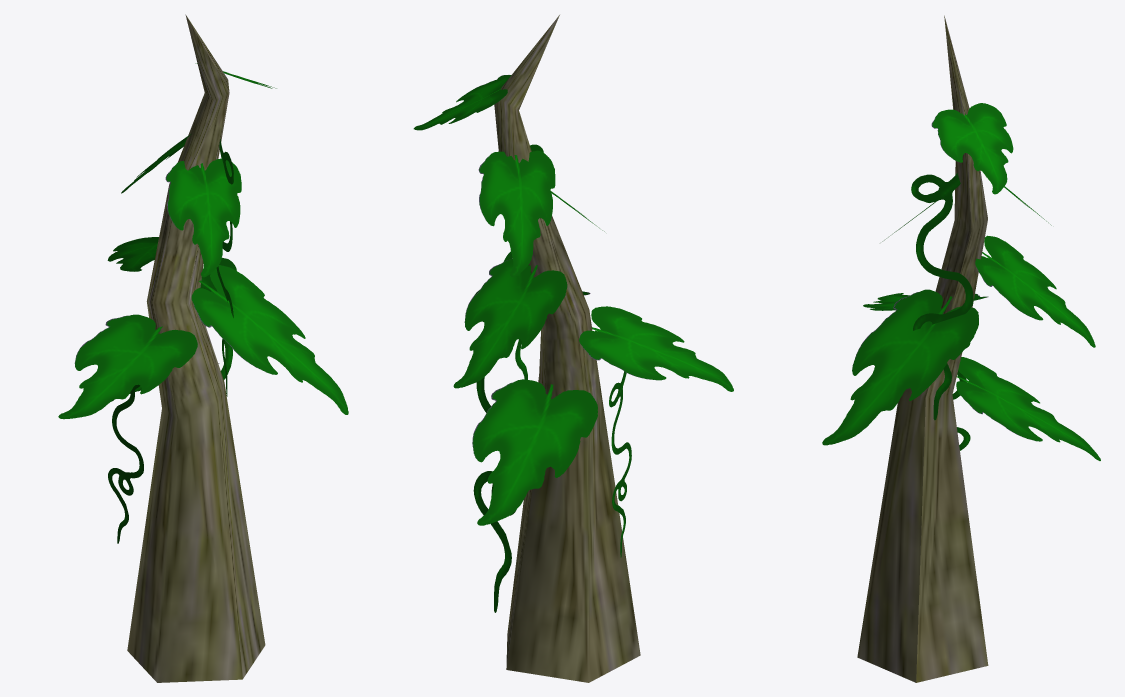
Rendered from grapevine.obj.
The picture shows the model from 3 angles, left to right: view 1: azimuth 30°, elevation 25°; view 2: azimuth 150°, elevation 25°; view 3: azimuth 270°, elevation 25°; orthographic projection.
Parts seen in each view (by area): view 1: Cylinder02, Duplicate01, Duplicate02, Duplicate04, Duplicate08, Duplicate03, Duplicate07, Box01; view 2: Cylinder02, Box01, Duplicate03, Duplicate06, Duplicate02, Duplicate05, Duplicate08; view 3: Cylinder02, Duplicate01, Box01, Duplicate03, Duplicate05, Duplicate07.
Boxes of the visible parts, bbox=[...] form: Cylinder02: bbox=[127, 14, 265, 682]; Duplicate01: bbox=[191, 265, 348, 414]; Duplicate02: bbox=[58, 314, 197, 419]; Duplicate04: bbox=[165, 158, 241, 277]; Duplicate08: bbox=[108, 384, 143, 543]; Duplicate03: bbox=[107, 237, 158, 271]; Duplicate07: bbox=[216, 139, 233, 396]; Box01: bbox=[111, 257, 236, 401]; Cylinder02: bbox=[494, 15, 640, 682]; Box01: bbox=[472, 290, 597, 612]; Duplicate03: bbox=[453, 258, 567, 388]; Duplicate06: bbox=[478, 150, 555, 277]; Duplicate02: bbox=[579, 306, 733, 391]; Duplicate05: bbox=[413, 75, 511, 130]; Duplicate08: bbox=[609, 371, 631, 557]; Cylinder02: bbox=[857, 15, 988, 682]; Duplicate01: bbox=[822, 289, 978, 445]; Box01: bbox=[956, 357, 1100, 460]; Duplicate03: bbox=[975, 235, 1095, 347]; Duplicate05: bbox=[931, 103, 1013, 194]; Duplicate07: bbox=[911, 173, 973, 420].
Size of the model in its own units: 23.03 by 44.49 by 20.8.
